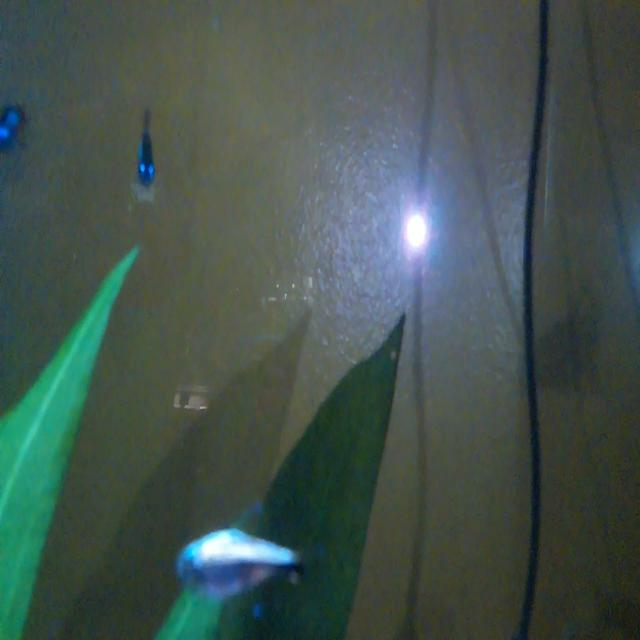fish: (170, 523, 304, 599), (131, 108, 174, 198)
